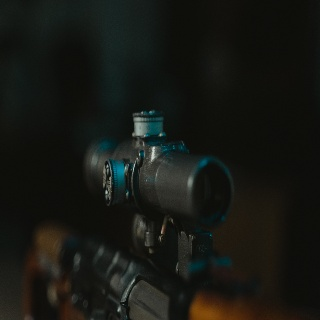rifle: (20, 108, 320, 320)
